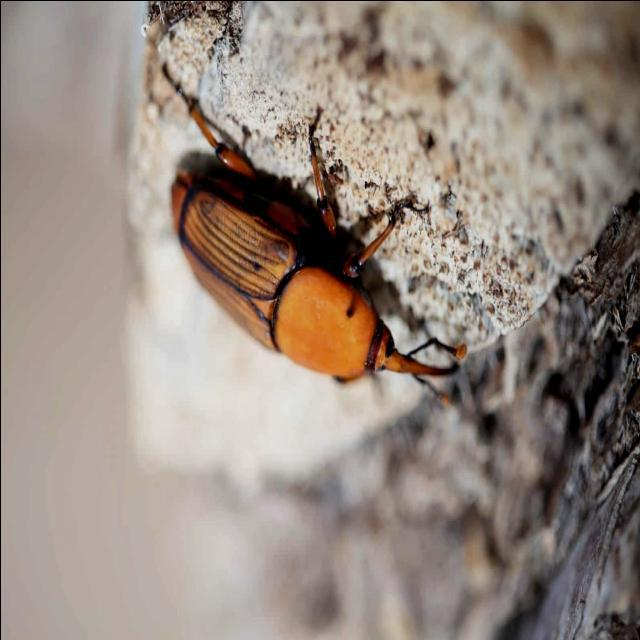Red-palm-weevil: (168, 155, 469, 411)
